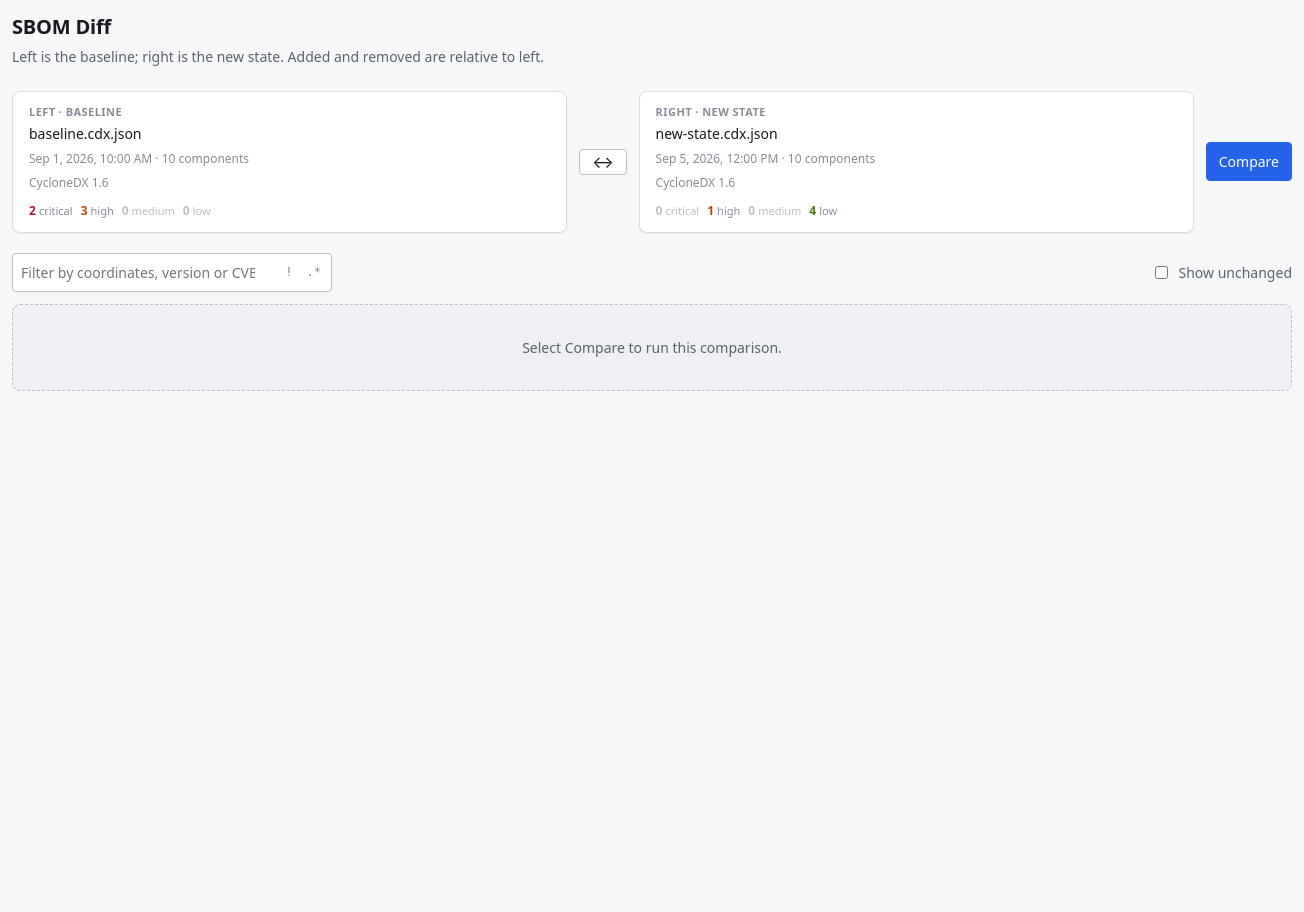
Test: DiffPage › breaks the vulnerability total down by band, including the bands at zero
Click the button "Compare": (1249, 162) x1=1206 y1=142 x2=1292 y2=181
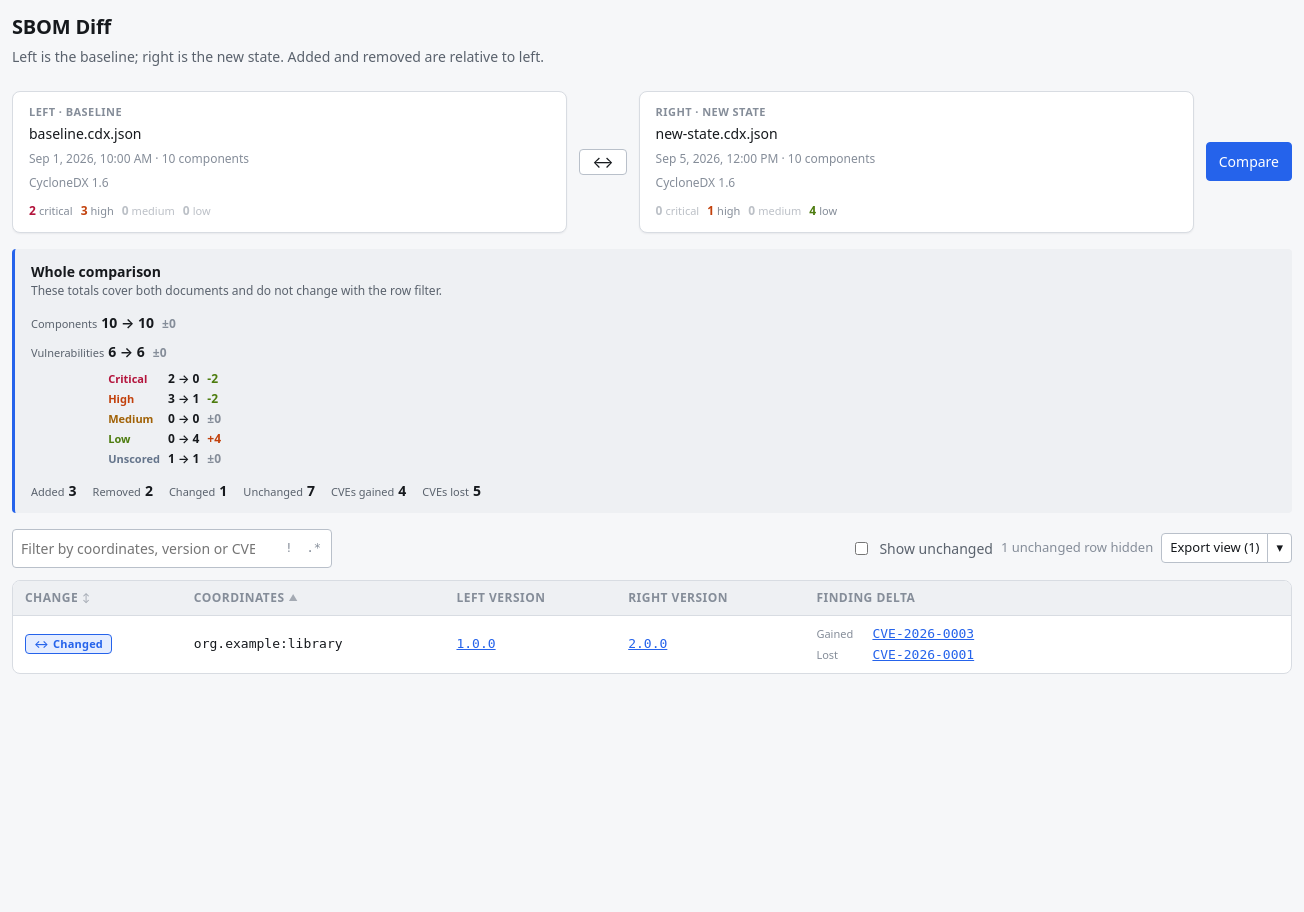
Result: the text "org.example:library" is shown at x1=182 y1=616 x2=444 y2=672
